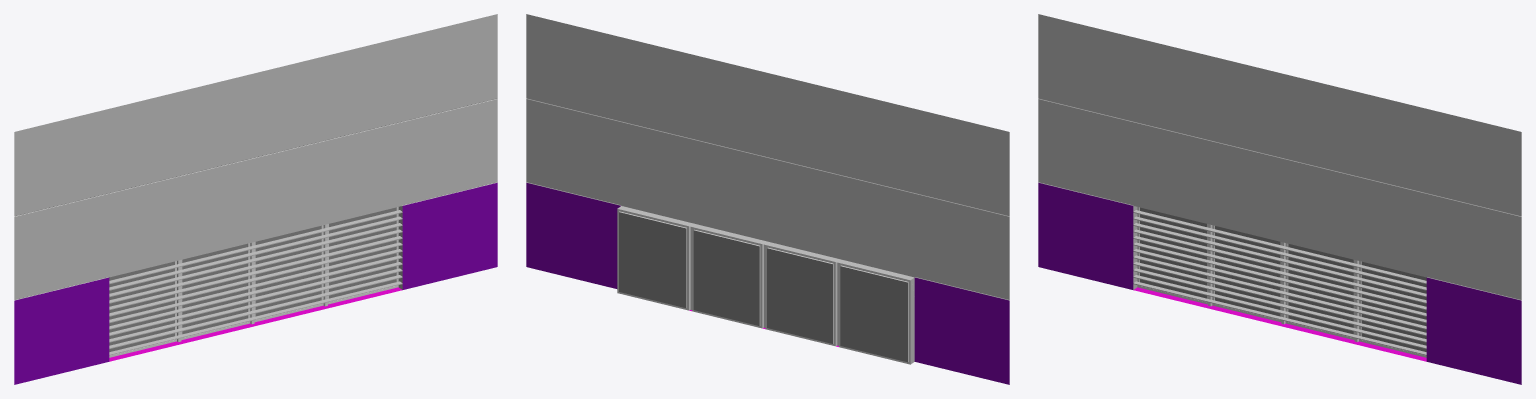
File: mesh_wall_03.FBX
3 views of the same model, side by side, from view 1: azimuth 30°, elevation 25°; view 2: azimuth 150°, elevation 25°; view 3: azimuth 330°, elevation 25° (orthographic).
Parts seen in each view (by area): view 1: mesh_wall_03, mesh_windows; view 2: mesh_wall_03, mesh_windows; view 3: mesh_wall_03, mesh_windows.
Boxes of the visible parts, x1,y1,x2,y2 form: mesh_wall_03: [14, 14, 497, 384]; mesh_windows: [109, 207, 395, 351]; mesh_wall_03: [526, 14, 1009, 384]; mesh_windows: [619, 212, 907, 362]; mesh_wall_03: [1038, 14, 1521, 384]; mesh_windows: [1140, 207, 1426, 351].
Bounding box in the file's own units: 18 × 9 × 0.2979.
